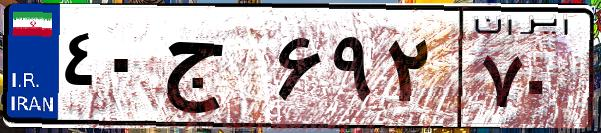0: (525, 38, 570, 115), (110, 28, 158, 98)
2: (385, 28, 445, 110)
4: (57, 26, 110, 100)
6: (270, 28, 330, 110)
7: (475, 38, 525, 113)
9: (330, 28, 385, 110)
ج: (158, 20, 270, 120)
